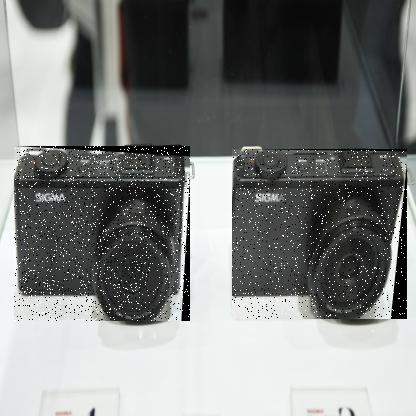Camera: (15, 147, 192, 323), (233, 150, 409, 321)
